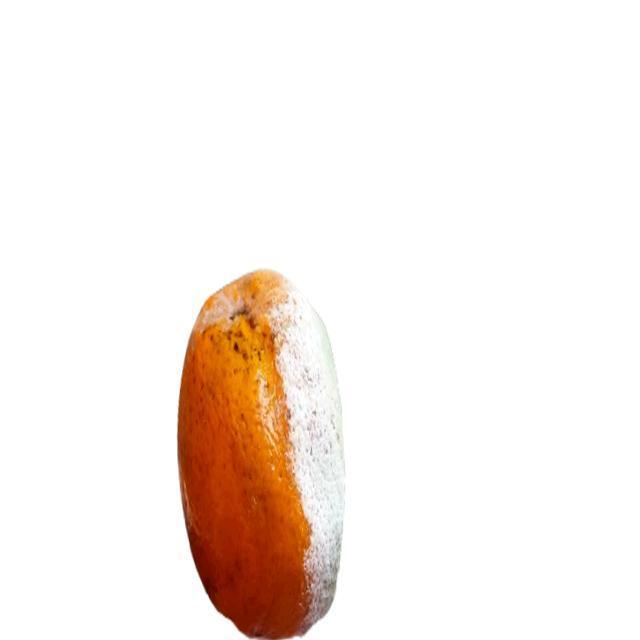rotten orange: (175, 267, 346, 639)
